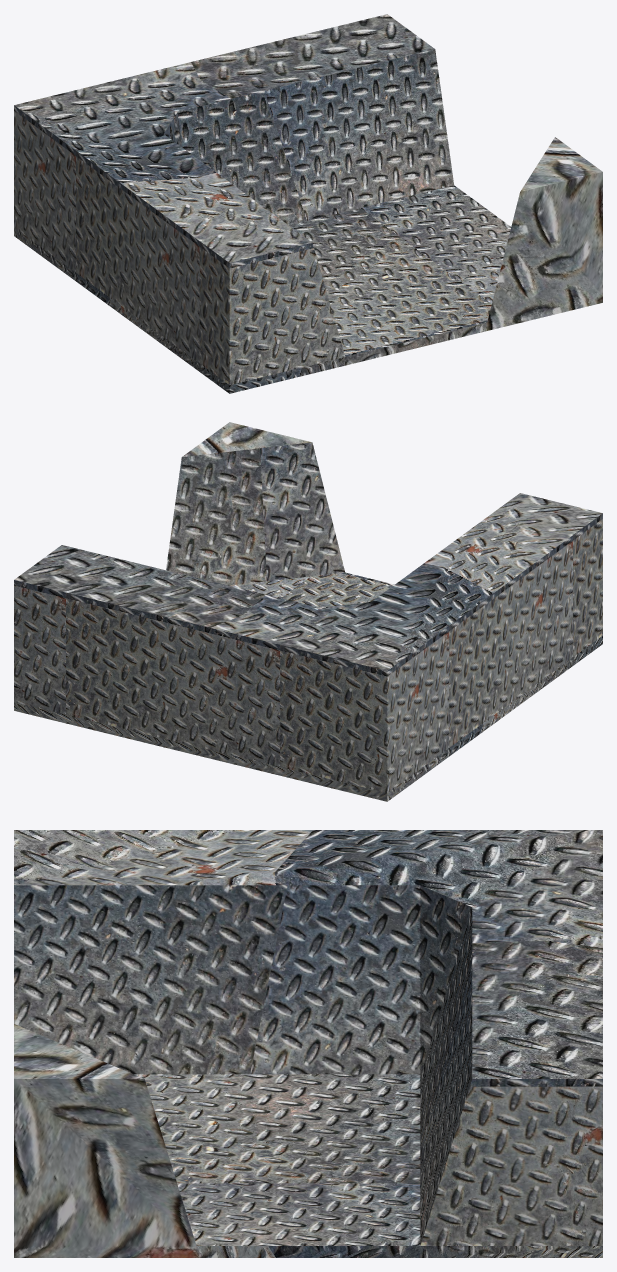
Rendered from Ventilation L .fbx.
3 renders of one model, top to bottom at view 1: azimuth 30°, elevation 25°; view 2: azimuth 150°, elevation 25°; view 3: azimuth 270°, elevation 25°, orthographic. The views are drawn at different scales.
Visible parts, largest first — view 1: Ventilation L; view 2: Ventilation L; view 3: Ventilation L.
Part boxes in pixels (x1,y1,x2,y2): Ventilation L: [14, 14, 602, 393]; Ventilation L: [14, 422, 602, 801]; Ventilation L: [14, 830, 602, 1257].
Size of the model in its own units: 443 by 148 by 443.
